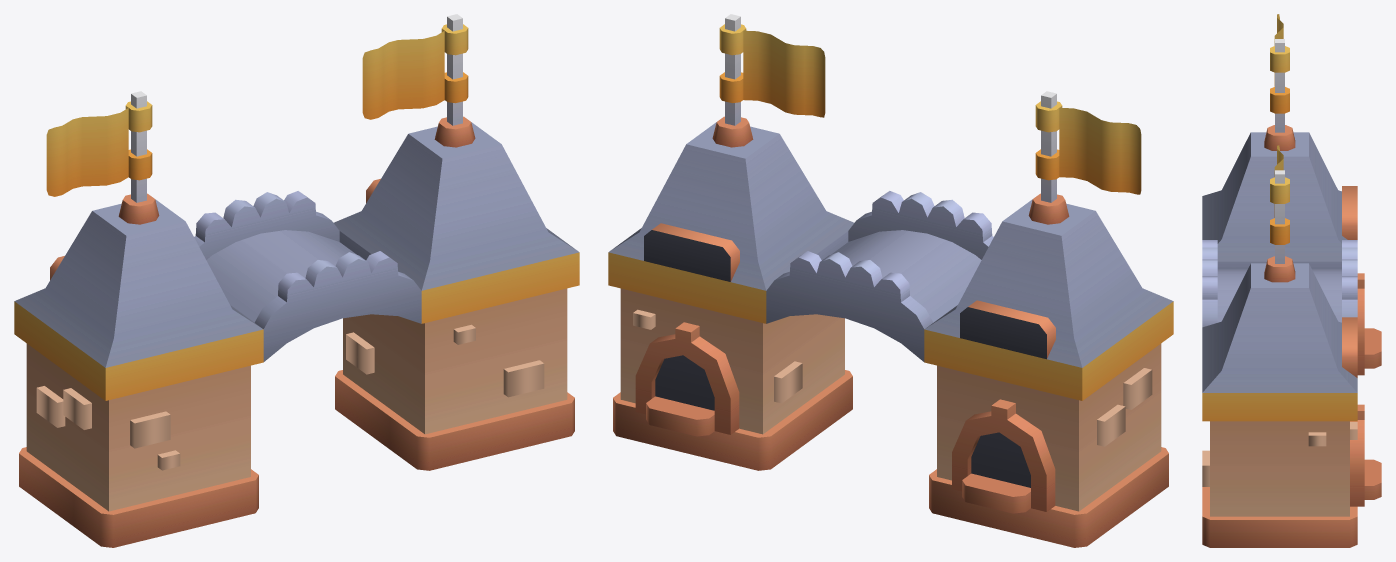
The model's file is tivoli.glb.
The picture shows the model from 3 angles, left to right: view 1: azimuth 30°, elevation 25°; view 2: azimuth 150°, elevation 25°; view 3: azimuth 270°, elevation 25°; orthographic projection. The views are drawn at different scales.
Parts seen in each view (by area): view 1: park-entrance; view 2: park-entrance; view 3: park-entrance.
Boxes of the visible parts, <box> form: park-entrance: <box>14,14,579,547</box>; park-entrance: <box>608,14,1173,547</box>; park-entrance: <box>1202,14,1381,547</box>.
Bounding box in the file's own units: 3.09 × 2.43 × 1.16.
Materials: 1 (1 with a texture image).
